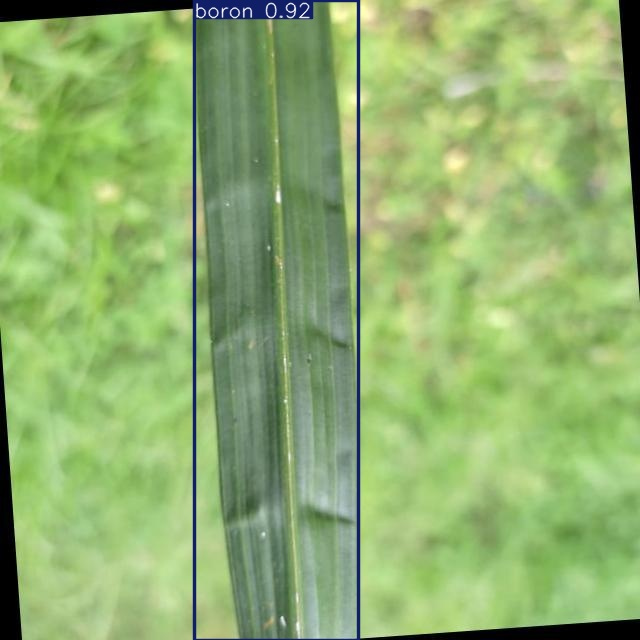nitrogen: (194, 0, 358, 640)
